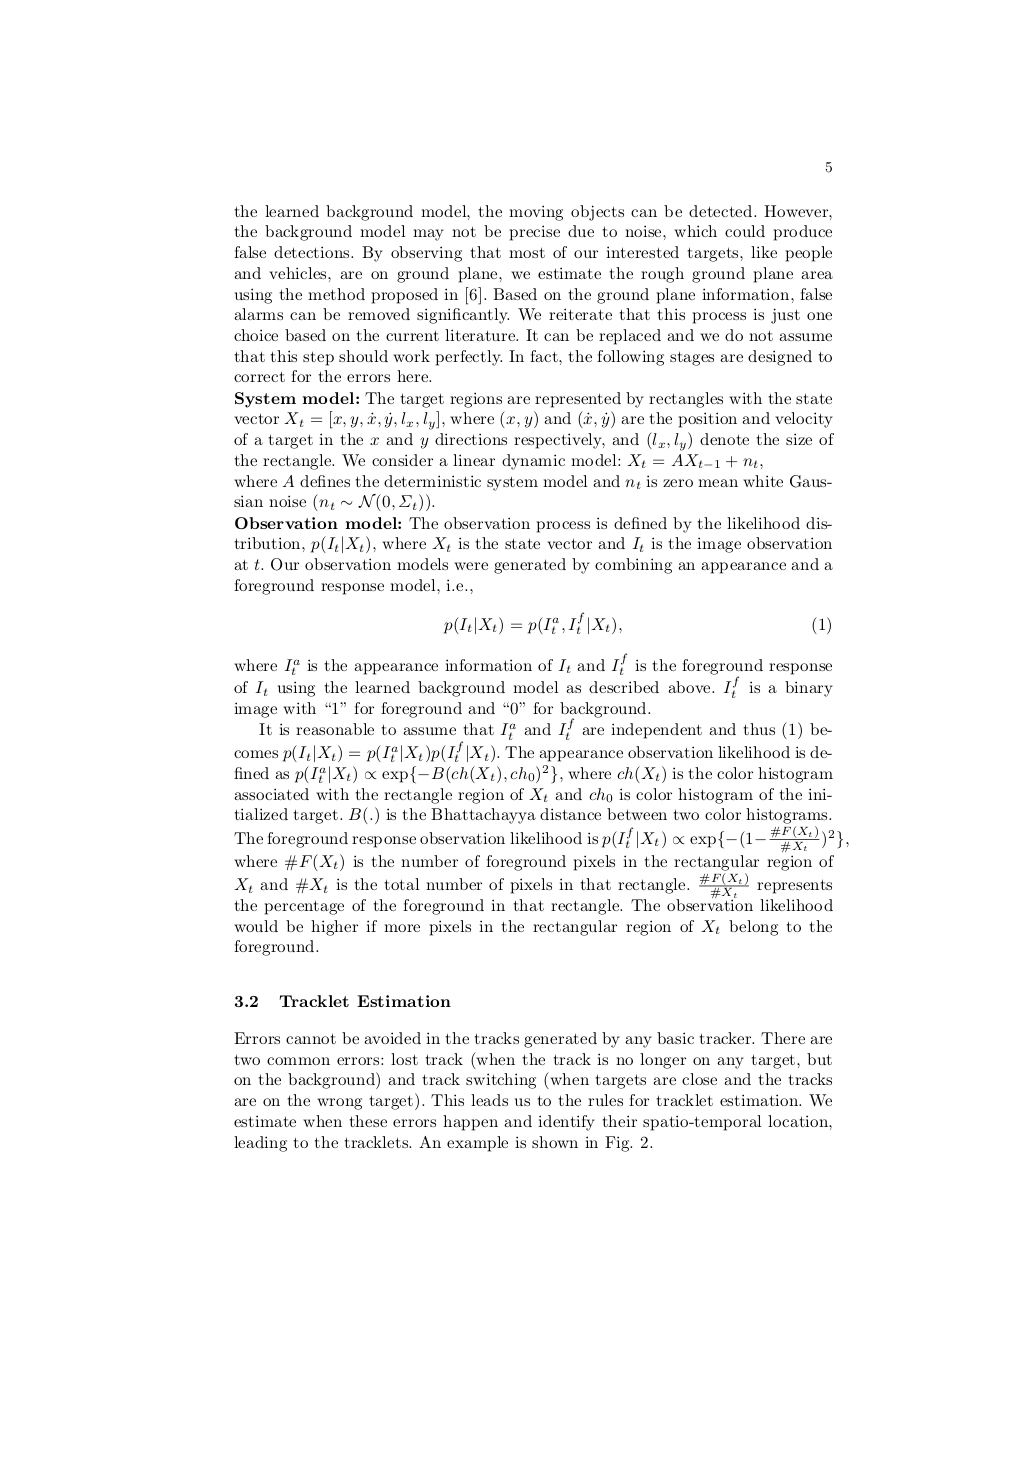formula: (443, 611, 830, 635)
